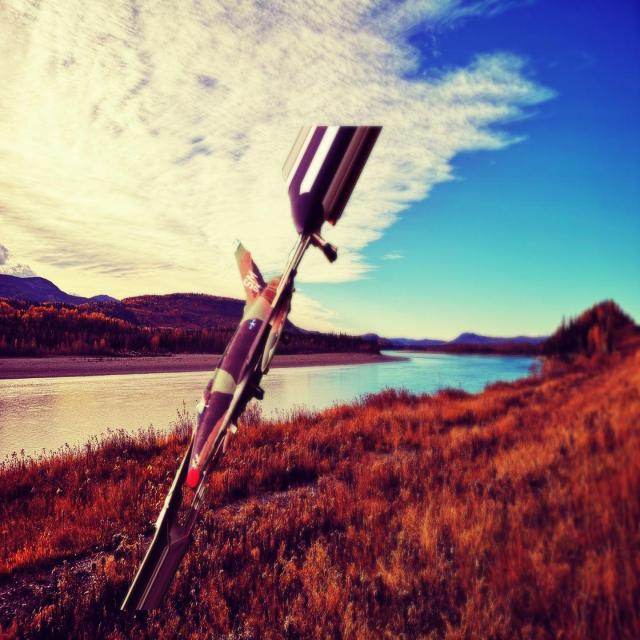airplane: (119, 122, 383, 612)
